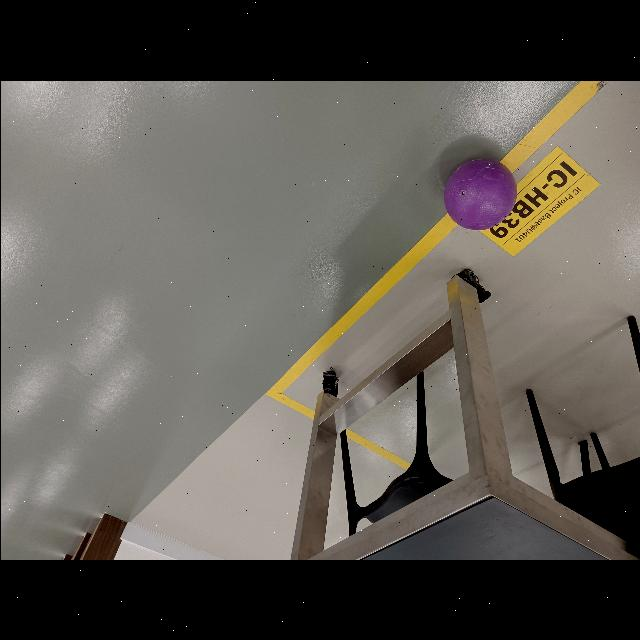P: (443, 156, 517, 230)
